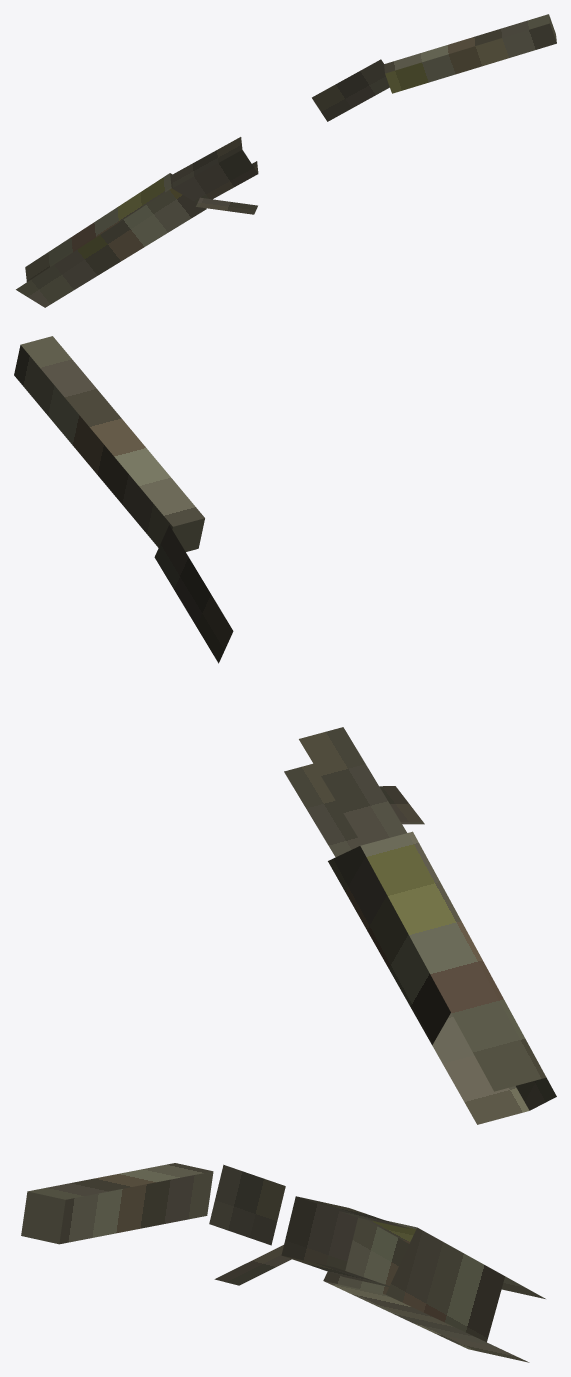
File: larch_twig_branch_up_diagonal_5.obj
3 renders of one model, top to bottom at view 1: azimuth 30°, elevation 25°; view 2: azimuth 150°, elevation 25°; view 3: azimuth 270°, elevation 25°, orthographic. The views are drawn at different scales.
Parts seen in each view (by area): view 1: cube; view 2: cube; view 3: cube.
Part boxes in pixels (x1,y1,x2,y2): cube: [16, 14, 556, 307]; cube: [14, 336, 556, 1124]; cube: [21, 1163, 545, 1362].
Size of the model in its own units: 2.2 by 1.34 by 1.25.
